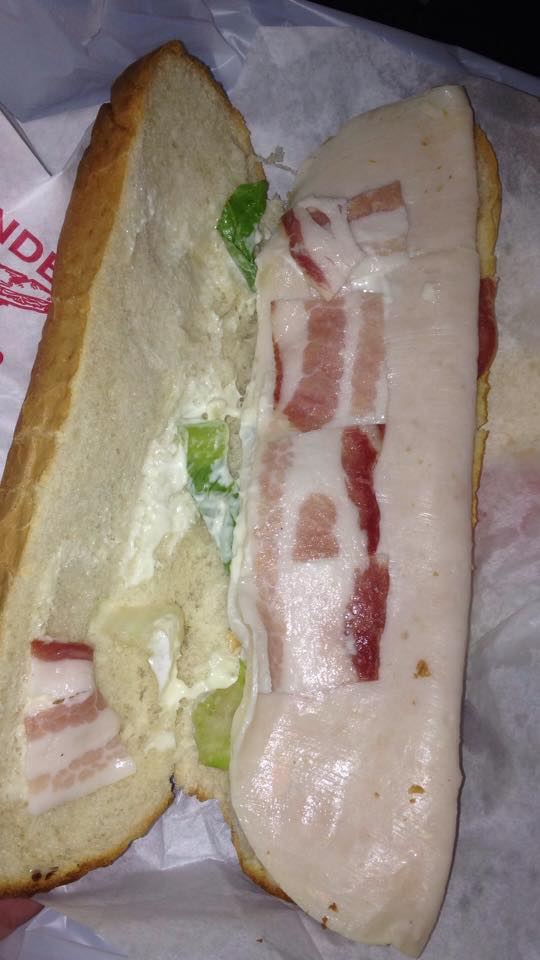bacon: (251, 188, 409, 722)
